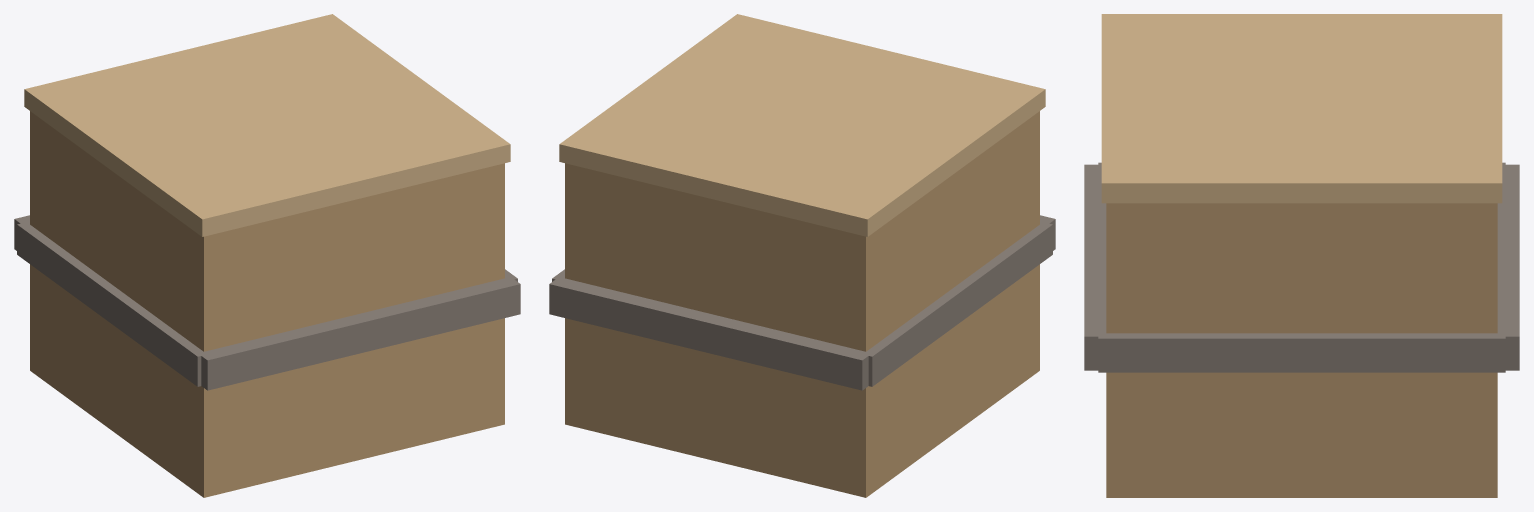
Rendered from warlike-crate-3d.gltf.
3 renders of one model, left to right at view 1: azimuth 30°, elevation 25°; view 2: azimuth 150°, elevation 25°; view 3: azimuth 270°, elevation 25°, orthographic. The views are drawn at different scales.
Size of the model in its own units: 1.33 by 1.12 by 1.39.
